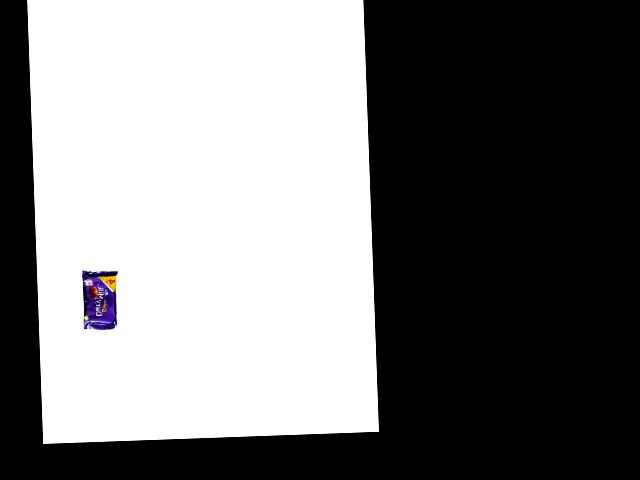chocolate: (76, 262, 119, 332)
